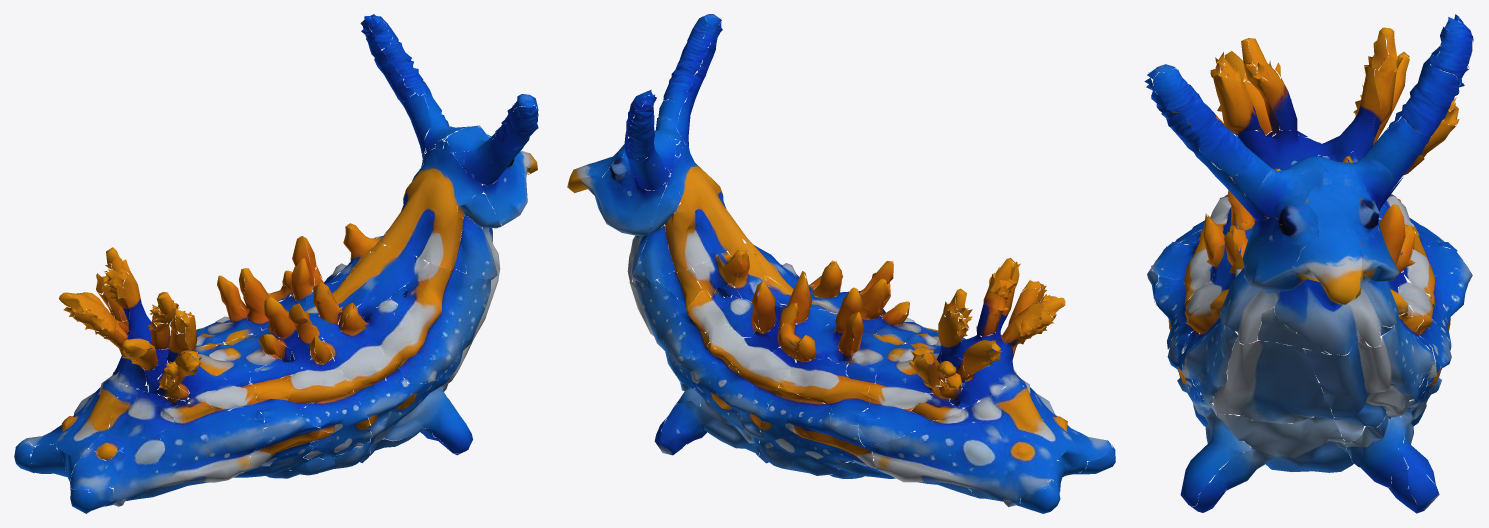
The model's file is nudibranch.glb.
3 renders of one model, left to right at view 1: azimuth 30°, elevation 25°; view 2: azimuth 150°, elevation 25°; view 3: azimuth 270°, elevation 25°, orthographic. The views are drawn at different scales.
Visible parts, largest first — view 1: tripo_node_ce7734d6-94df-4f96-8ef2-f5c5f6427846; view 2: tripo_node_ce7734d6-94df-4f96-8ef2-f5c5f6427846; view 3: tripo_node_ce7734d6-94df-4f96-8ef2-f5c5f6427846.
Boxes of the visible parts, box(x1,y1,x2,y2) form: tripo_node_ce7734d6-94df-4f96-8ef2-f5c5f6427846: box(14, 14, 538, 513); tripo_node_ce7734d6-94df-4f96-8ef2-f5c5f6427846: box(567, 14, 1115, 513); tripo_node_ce7734d6-94df-4f96-8ef2-f5c5f6427846: box(1144, 14, 1473, 513).
Size of the model in its own units: 1 by 0.6999 by 0.4209.
Materials: 1 (1 with a texture image).
